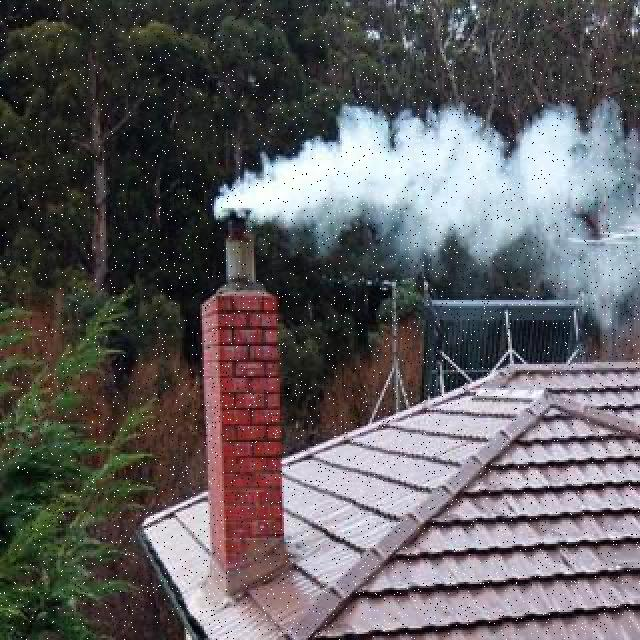smoke: (214, 106, 640, 308)
